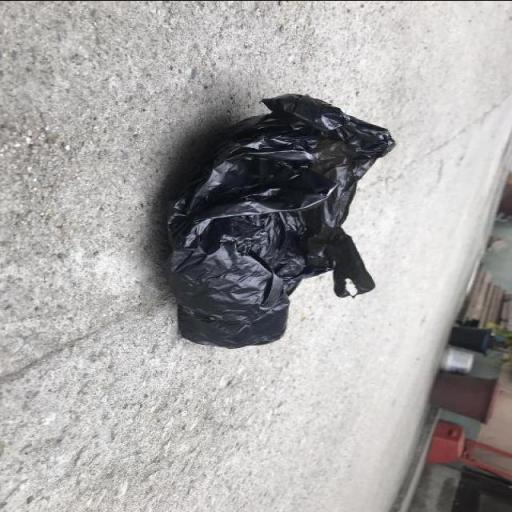plastic-bag: (157, 92, 397, 350)
